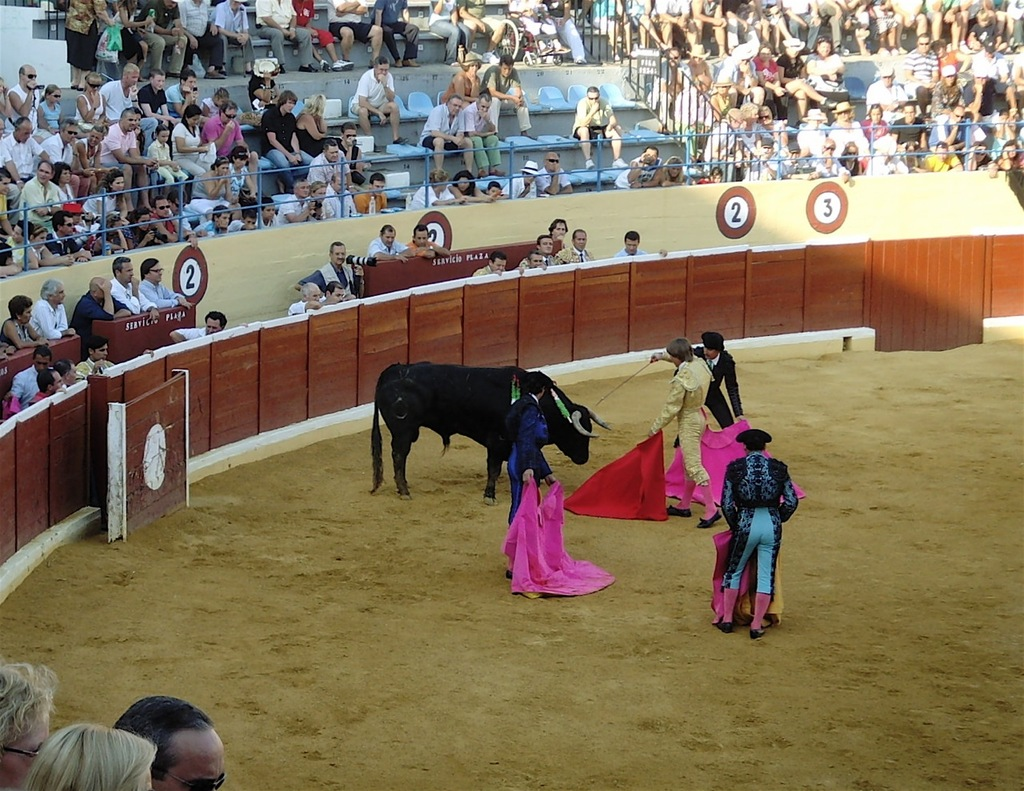Person: (0, 0, 723, 278), (589, 0, 1024, 181), (0, 257, 249, 422), (288, 219, 668, 315), (715, 430, 799, 639), (637, 339, 723, 529), (506, 371, 557, 599), (113, 695, 227, 791), (22, 726, 158, 791), (675, 332, 746, 451), (0, 654, 59, 791)
